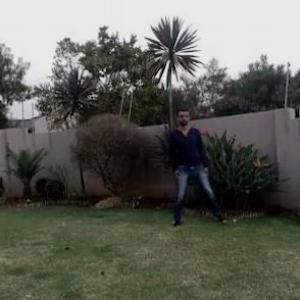follow: (167, 101, 203, 222)
